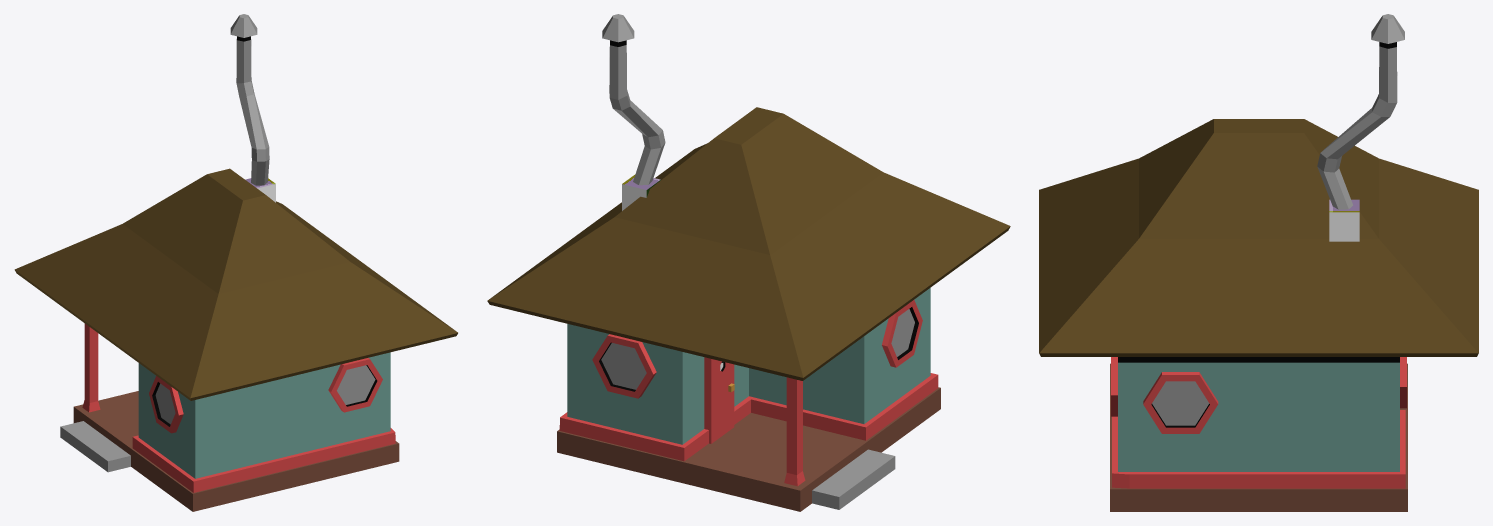
File: LumberJacksHouse.glb
3 renders of one model, left to right at view 1: azimuth 30°, elevation 25°; view 2: azimuth 150°, elevation 25°; view 3: azimuth 270°, elevation 25°, orthographic. The views are drawn at different scales.
Parts seen in each view (by area): view 1: house; view 2: house; view 3: house.
Boxes of the visible parts, box(x1,y1,x2,y2) form: house: box(14, 14, 457, 511); house: box(487, 14, 1010, 511); house: box(1039, 14, 1478, 511).
Size of the model in its own units: 4.67 by 6.23 by 5.3.
1 material, 1 textured.
